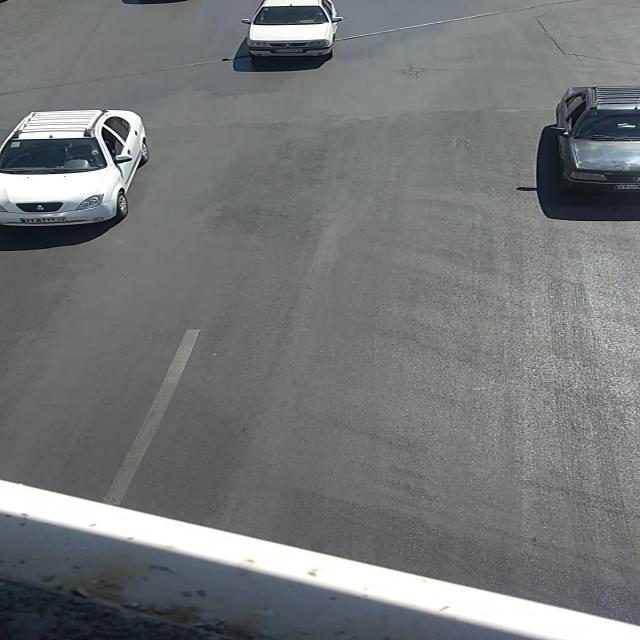car: (2, 105, 148, 228), (549, 84, 639, 198), (240, 2, 344, 56)
